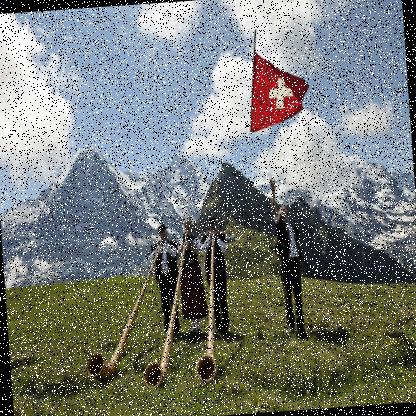ch: (245, 46, 313, 135)
